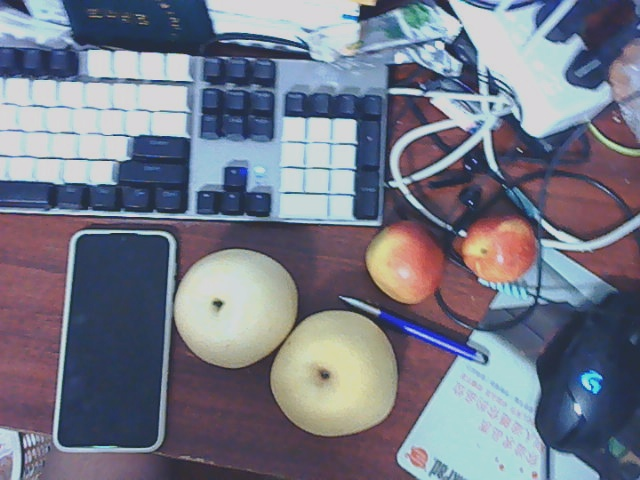peach: (362, 223, 446, 301), (464, 215, 537, 287)
pear: (276, 305, 399, 438), (169, 244, 294, 363)
